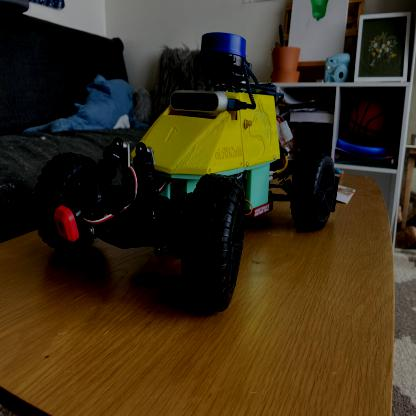mushr_car: (31, 32, 344, 314)
